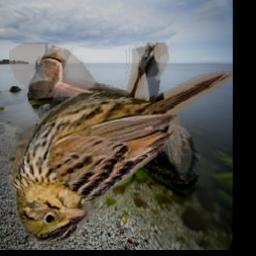Sparrow: (9, 43, 233, 244)
